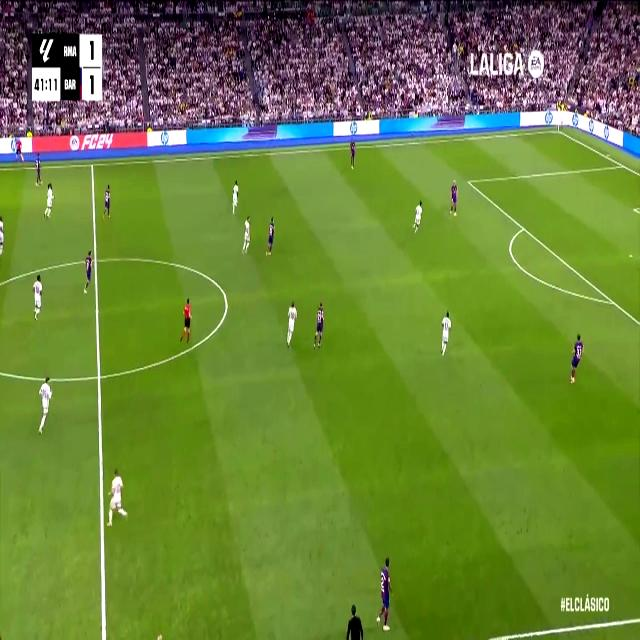bigarea_top_inner: (464, 172, 472, 188)
bigarea_top_outter: (618, 157, 626, 171)
bottom_arc_area_intersection: (608, 293, 616, 310)
corner: (554, 126, 562, 136)
halfcircle_bottom: (93, 362, 105, 389)
halfcircle_top: (91, 250, 101, 270)
midline_top_intersection: (88, 158, 96, 172)
smallarea_top_inner: (631, 201, 638, 216)
top_arc_area_intersection: (520, 220, 527, 234)
